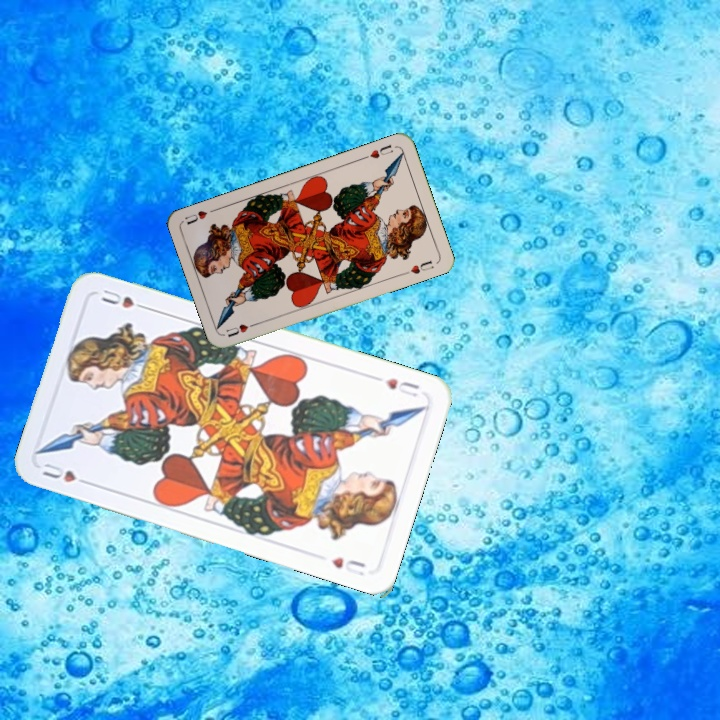HU: (38, 459, 94, 488), (381, 374, 422, 400), (222, 318, 260, 340), (359, 140, 396, 162)
